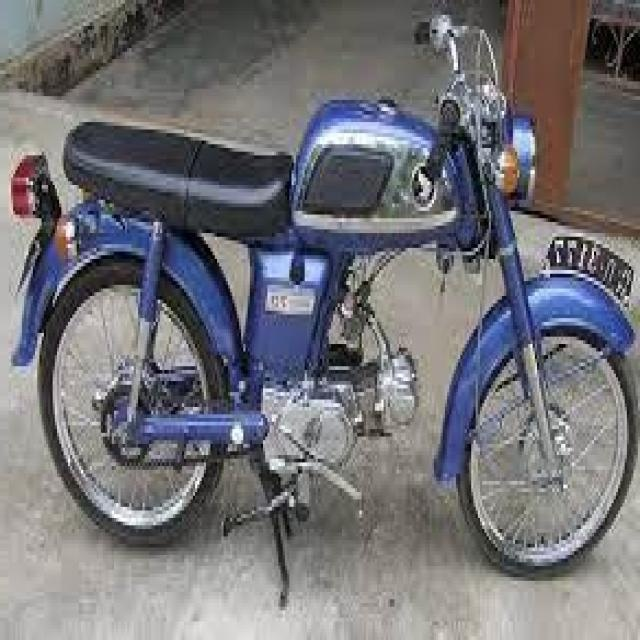motorcycle: (21, 24, 626, 586)
